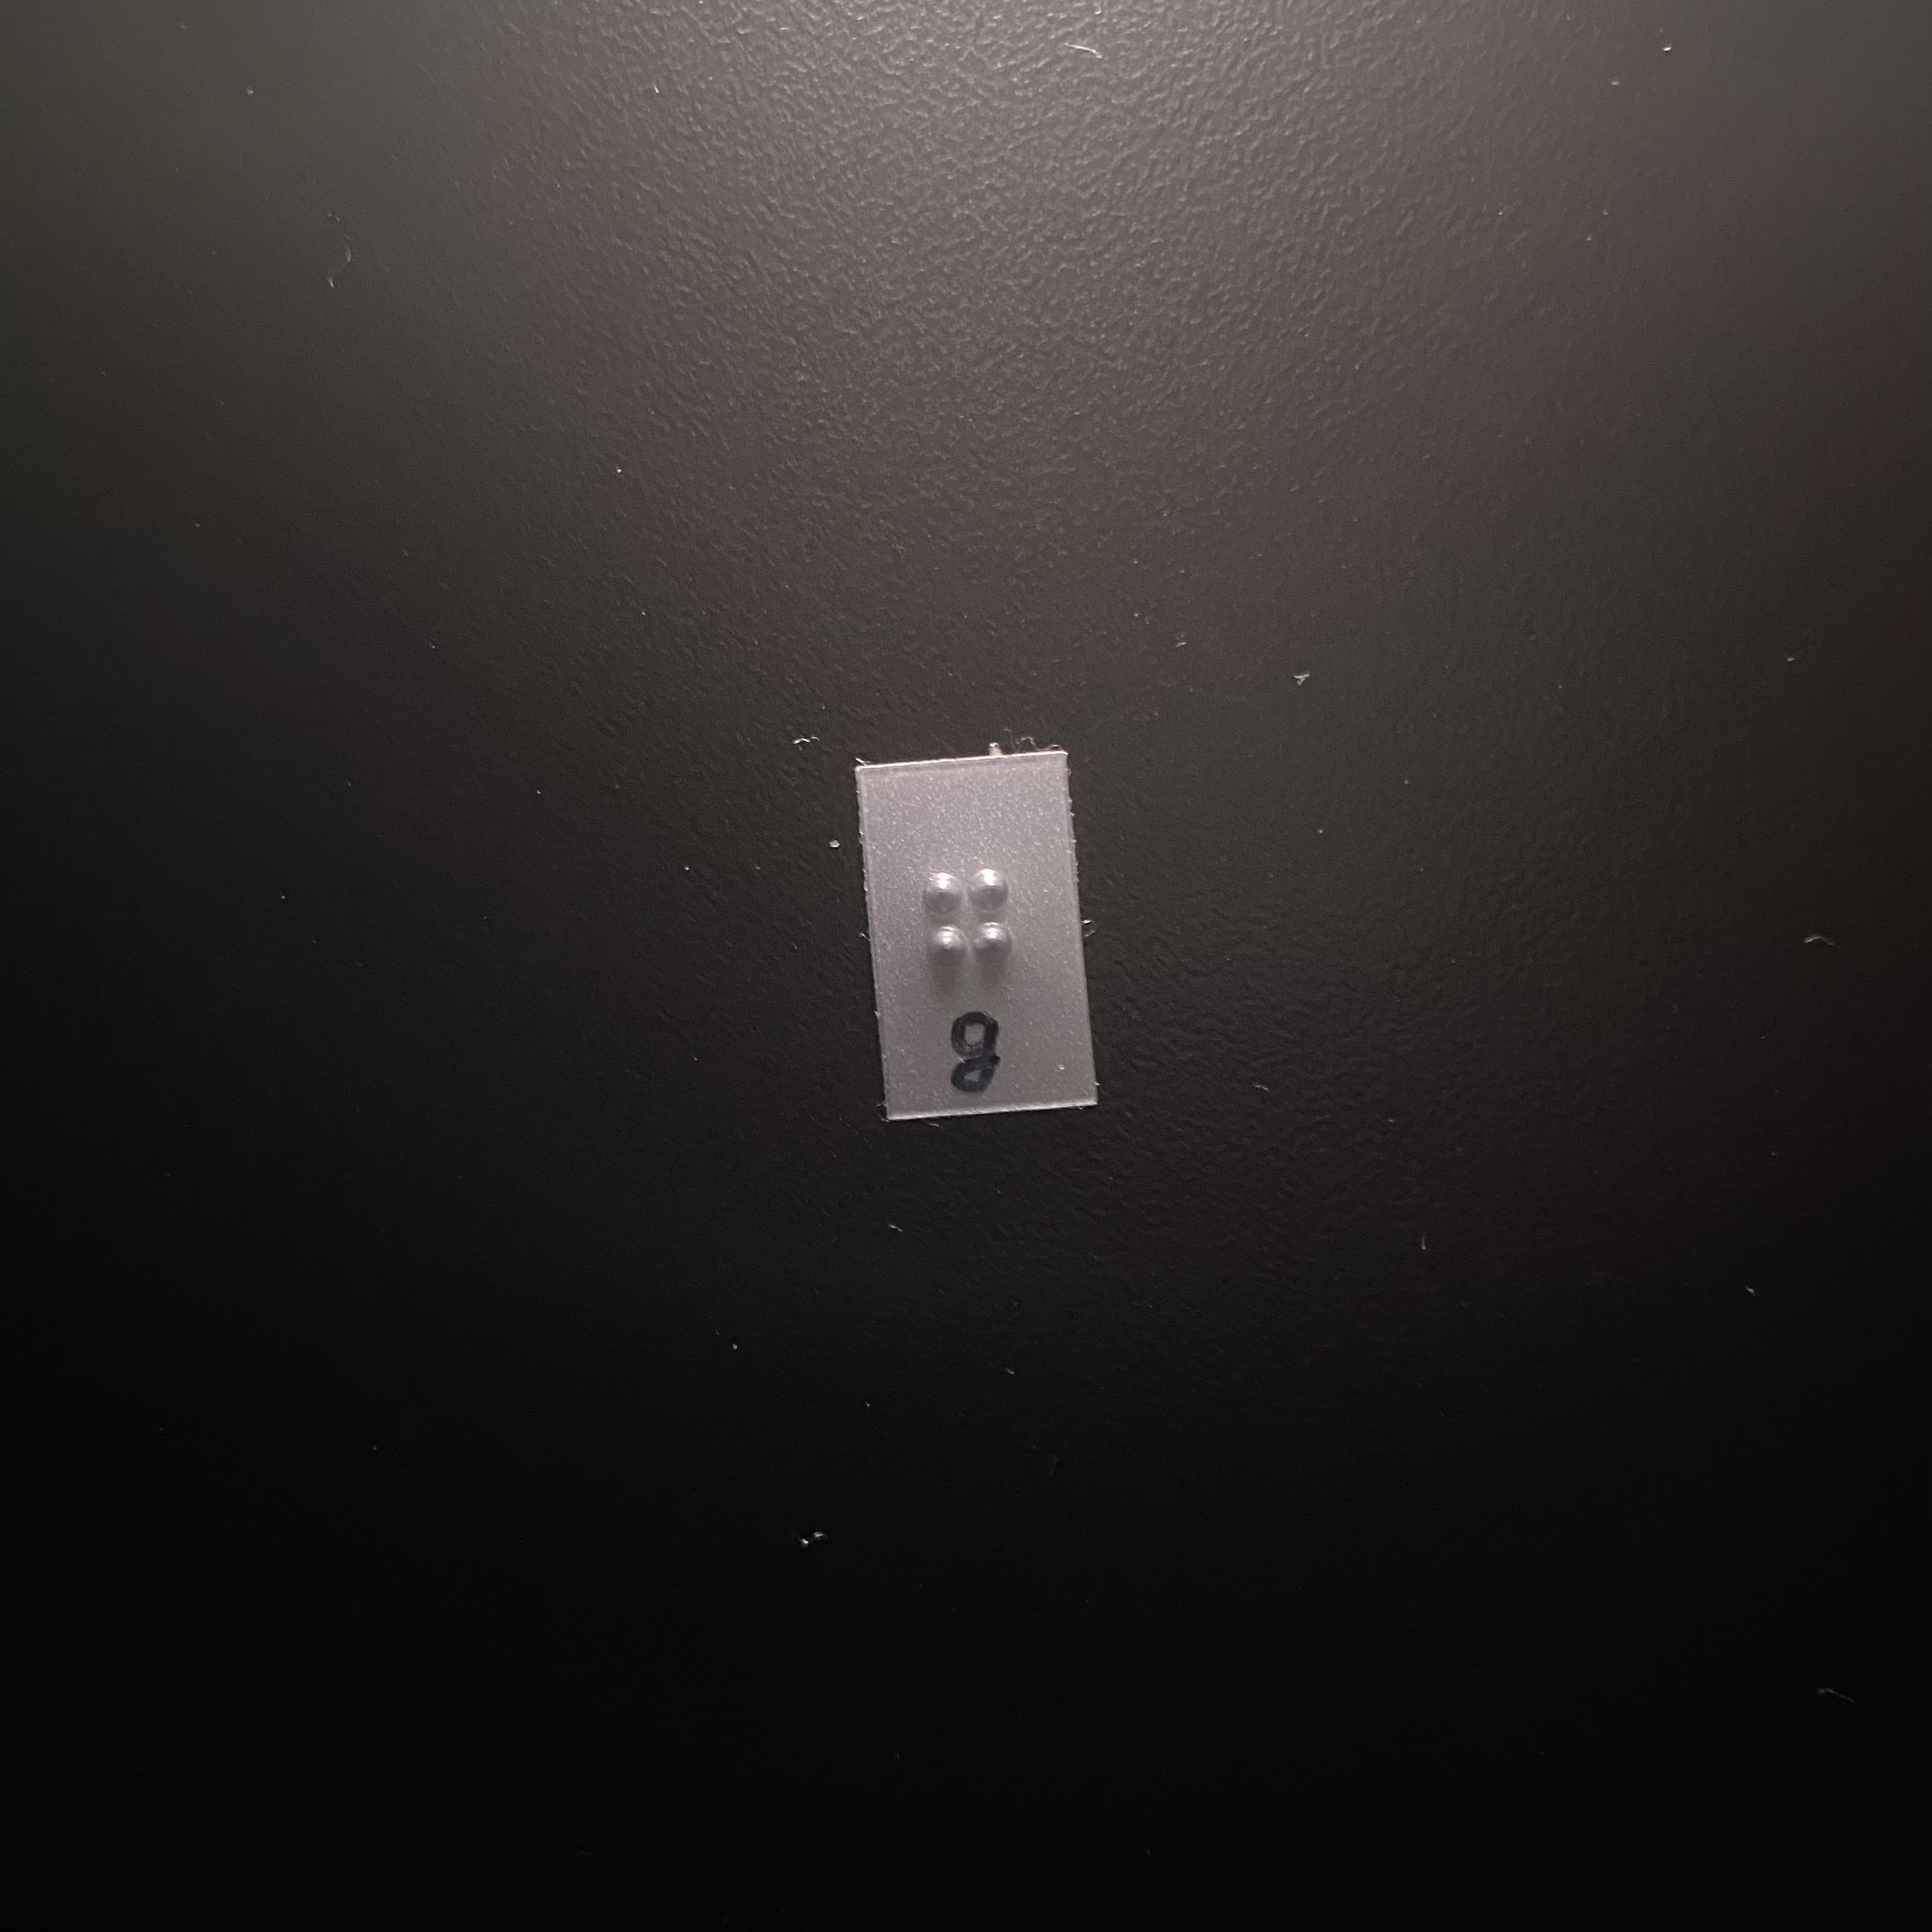g: (906, 843, 1028, 1044)
